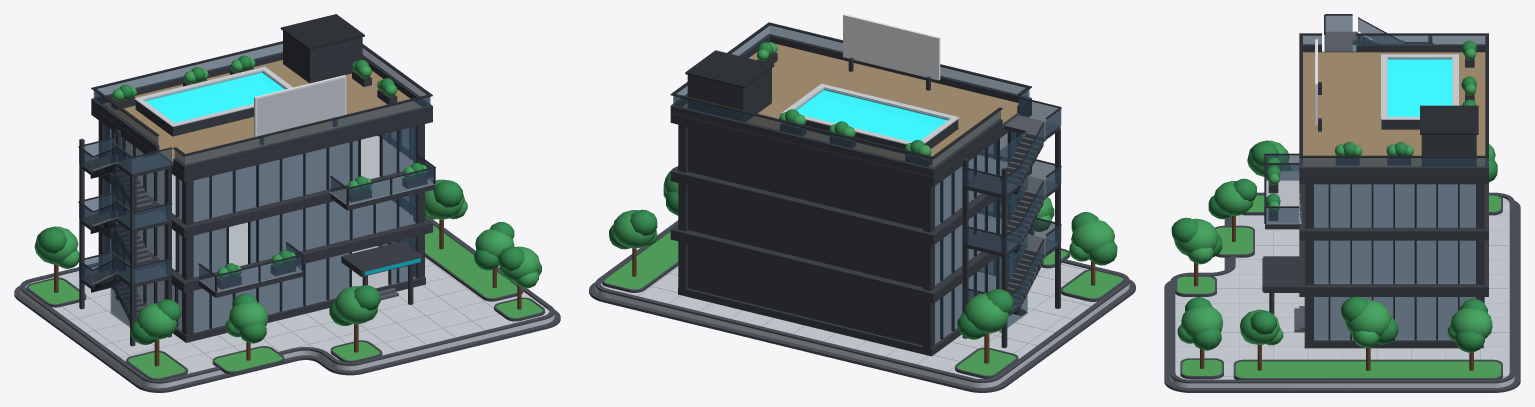
The model's file is storefront_v3.glb.
3 views of the same model, side by side, from view 1: azimuth 30°, elevation 25°; view 2: azimuth 150°, elevation 25°; view 3: azimuth 270°, elevation 25° (orthographic). The views are drawn at different scales.
Visible parts, largest first — view 1: VISUAL, VISUAL_plaza, VISUAL_roof, DECOR, VISUAL_exterior_stairs, SLOT_billboard_01_placeholder, VISUAL_entrance; view 2: VISUAL, VISUAL_roof, VISUAL_plaza, VISUAL_exterior_stairs, DECOR, SLOT_billboard_01_placeholder; view 3: VISUAL_plaza, VISUAL, VISUAL_roof, DECOR, VISUAL_exterior_stairs, VISUAL_entrance.
Boxes of the visible parts, x1,y1,x2,y2 form: VISUAL: (98, 120, 435, 342); VISUAL_plaza: (14, 217, 560, 392); VISUAL_roof: (91, 14, 432, 182); DECOR: (34, 55, 541, 366); VISUAL_exterior_stairs: (78, 130, 172, 346); SLOT_billboard_01_placeholder: (254, 75, 346, 136); VISUAL_entrance: (341, 241, 422, 304); VISUAL: (670, 124, 1031, 356); VISUAL_roof: (670, 22, 1031, 186); VISUAL_plaza: (589, 220, 1135, 392); VISUAL_exterior_stairs: (962, 97, 1061, 348); DECOR: (609, 42, 1117, 363); SLOT_billboard_01_placeholder: (843, 14, 940, 80); VISUAL_plaza: (1164, 192, 1520, 392); VISUAL: (1264, 153, 1488, 348); VISUAL_roof: (1299, 33, 1488, 184); DECOR: (1171, 40, 1497, 370); VISUAL_exterior_stairs: (1324, 14, 1432, 51); VISUAL_entrance: (1263, 256, 1304, 332).
Size of what is drawn, in the model's own units: 26.7 by 15.05 by 20.7.
